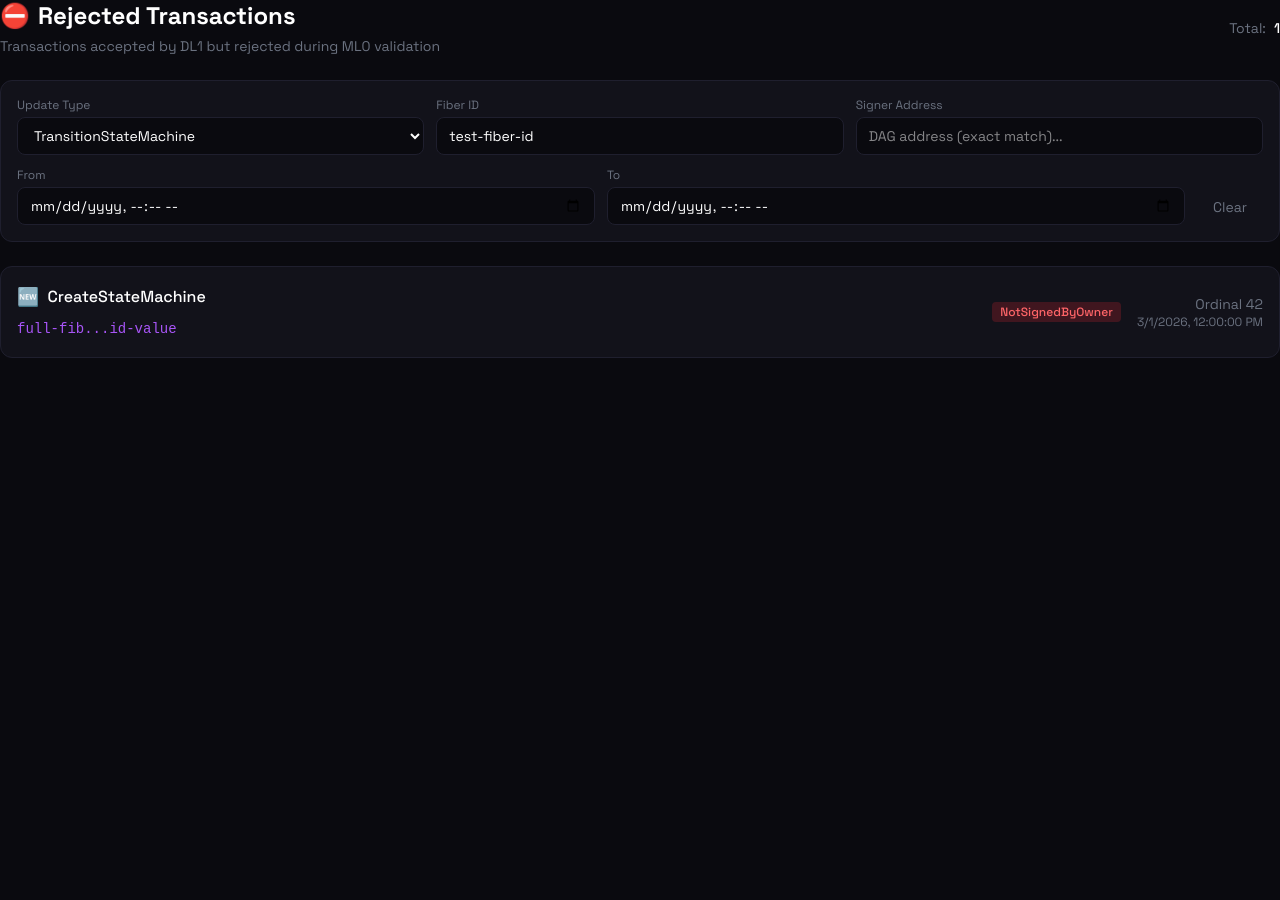
Test: RejectionsView — Detail Modal › clicking a rejection row opens detail modal showing fiberId, updateHash, signers, and errors
Expected: the text "CreateStateMachine" is shown, [48,286,206,307]
Click the text "CreateStateMachine" at point(640, 312), box [0,266,1279,358]
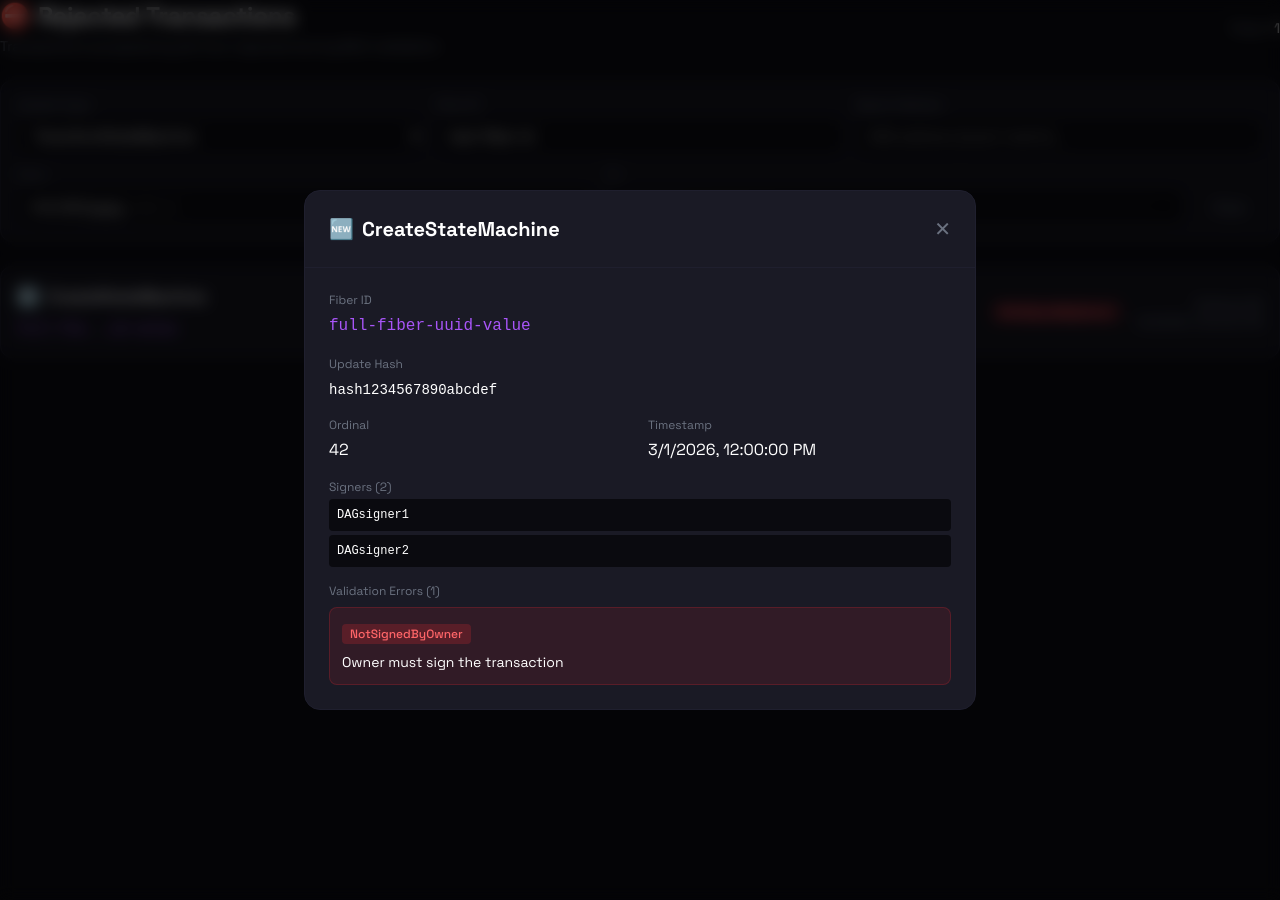
Expected: the button "full-fiber-uuid-value" is shown, [329,314,531,340]
Expected: the text "hash1234567890abcdef" is shown, [329,382,497,398]
Expected: the text "DAGsigner1" is shown, [329,499,951,531]
